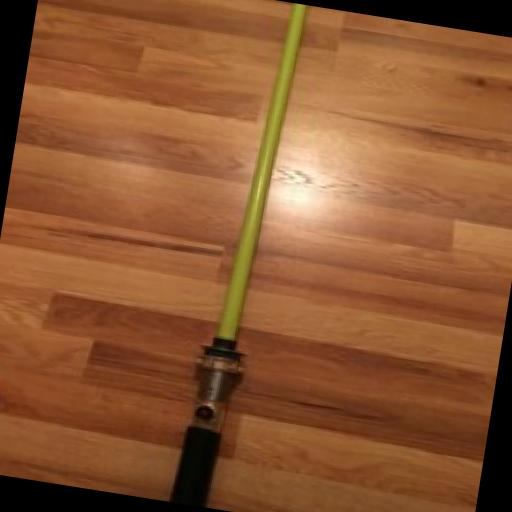lightsaber: (163, 0, 318, 512)
